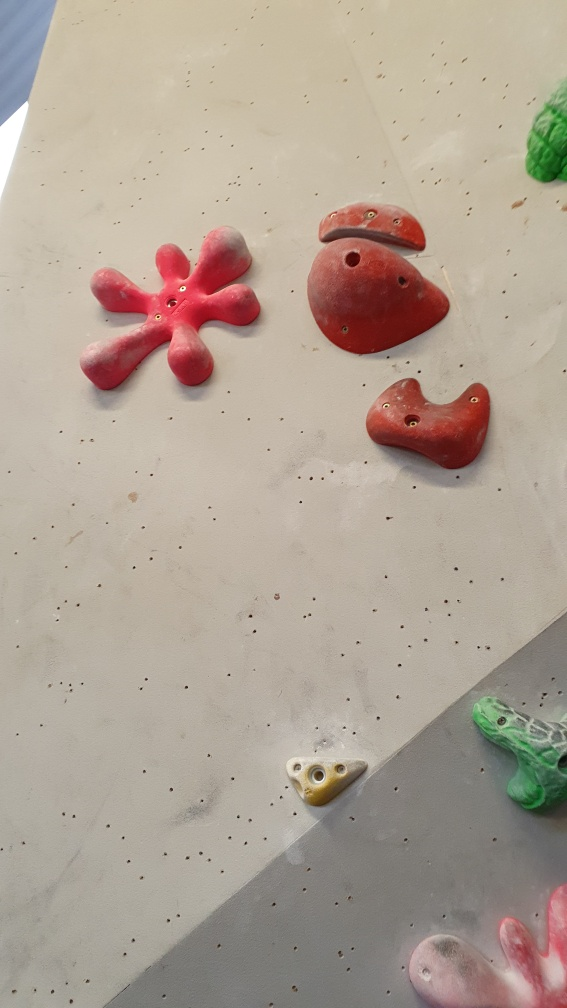Octopus Pinch: (75, 221, 262, 391), (403, 872, 565, 1007)
